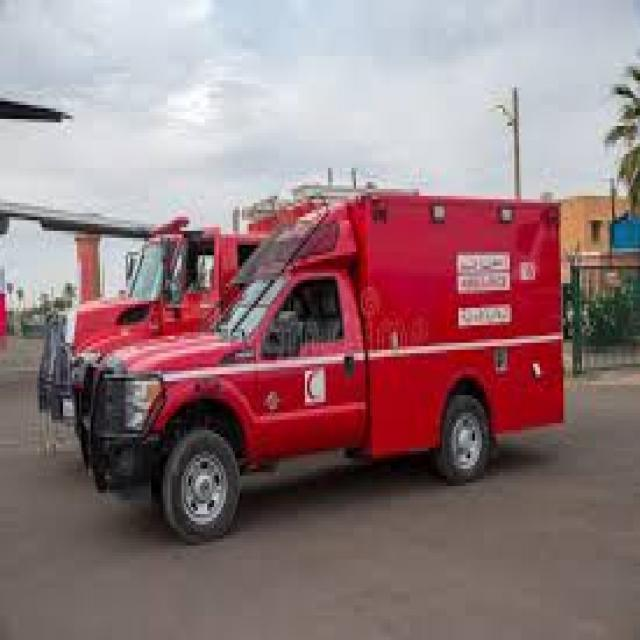ambulance: (81, 197, 565, 546)
